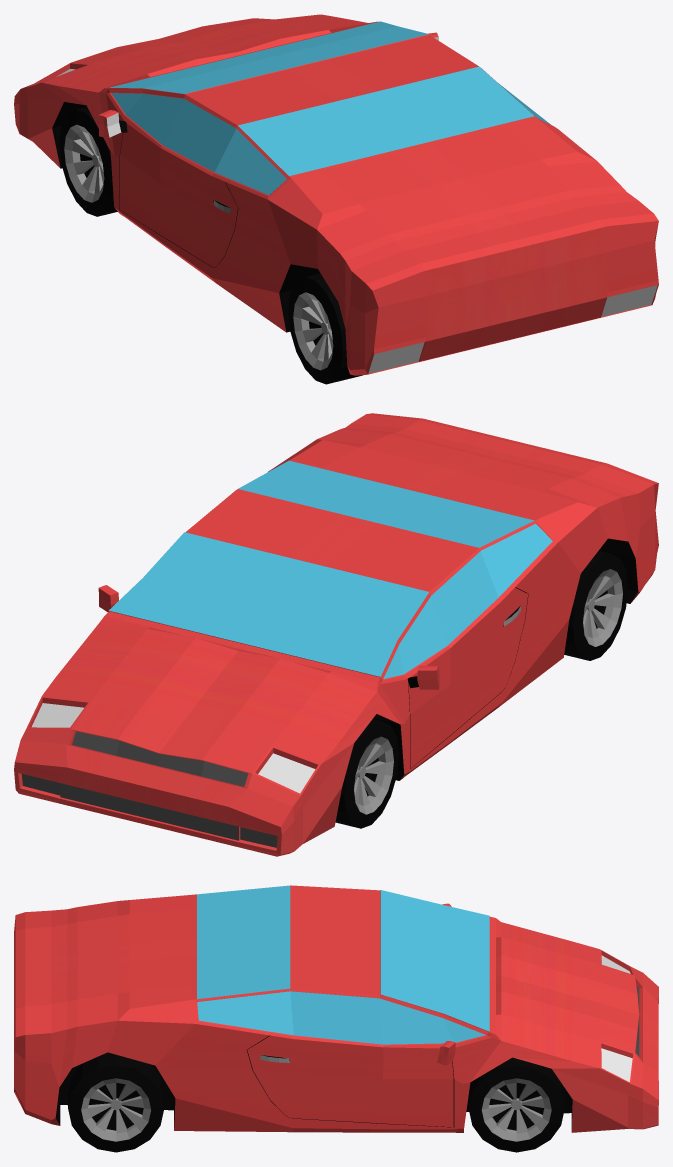
File: Car16ToimiivaMateriaalitFBXVersio2.3ReMesh.fbx
The picture shows the model from 3 angles, top to bottom: view 1: azimuth 30°, elevation 25°; view 2: azimuth 150°, elevation 25°; view 3: azimuth 270°, elevation 25°; orthographic projection. The views are drawn at different scales.
Visible parts, largest first — view 1: Cube; view 2: Cube; view 3: Cube.
Part boxes in pixels (bbox=[...]): Cube: bbox=[14, 14, 658, 384]; Cube: bbox=[14, 413, 658, 856]; Cube: bbox=[14, 885, 658, 1152].
Size of the model in its own units: 500 by 249 by 940.
Materials: 9 (1 with a texture image).
